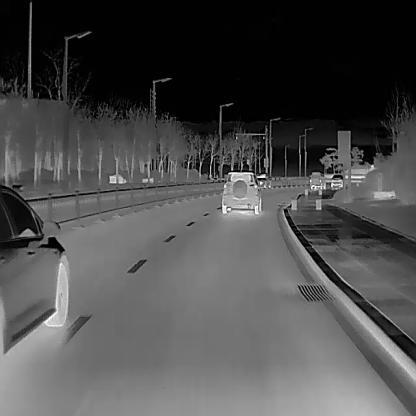car: (0, 184, 77, 359), (222, 171, 261, 213), (310, 172, 326, 189), (256, 172, 271, 188), (330, 174, 343, 188), (108, 173, 126, 183), (142, 177, 153, 183)
